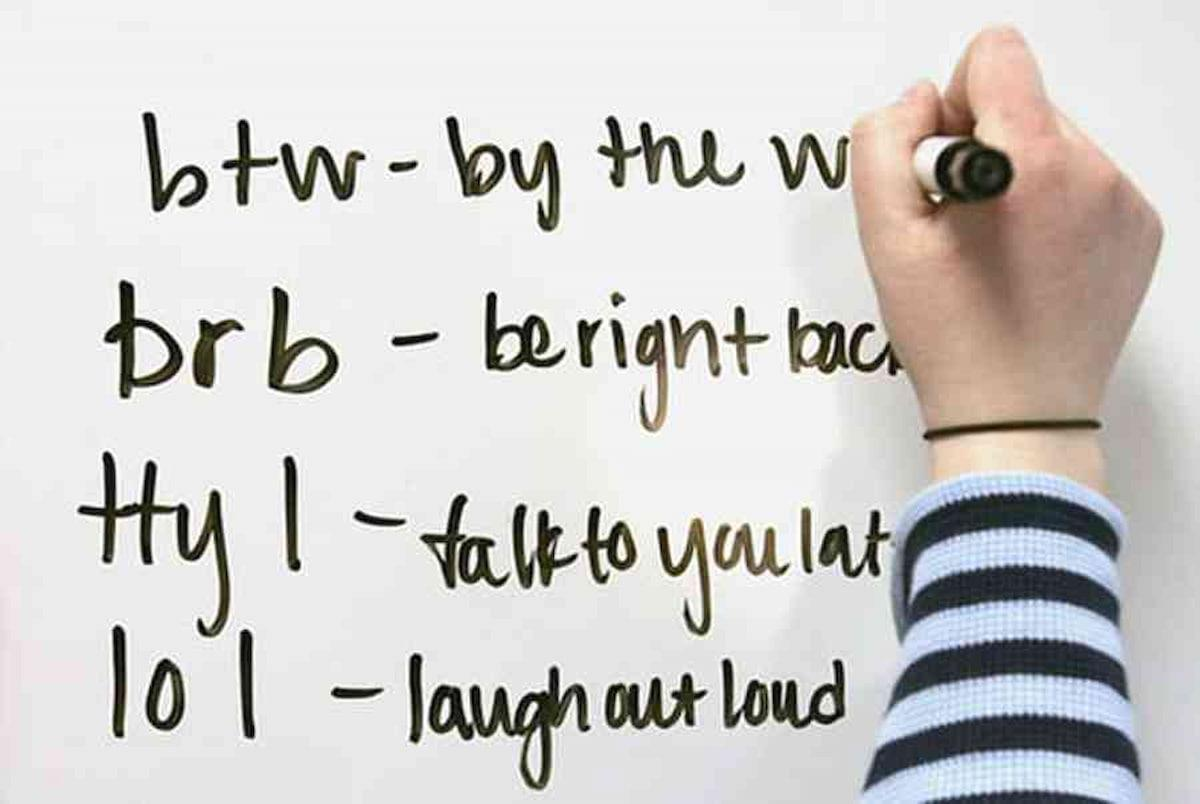text: (69, 449, 893, 642), (94, 620, 855, 794), (100, 278, 909, 439), (136, 110, 853, 237)
